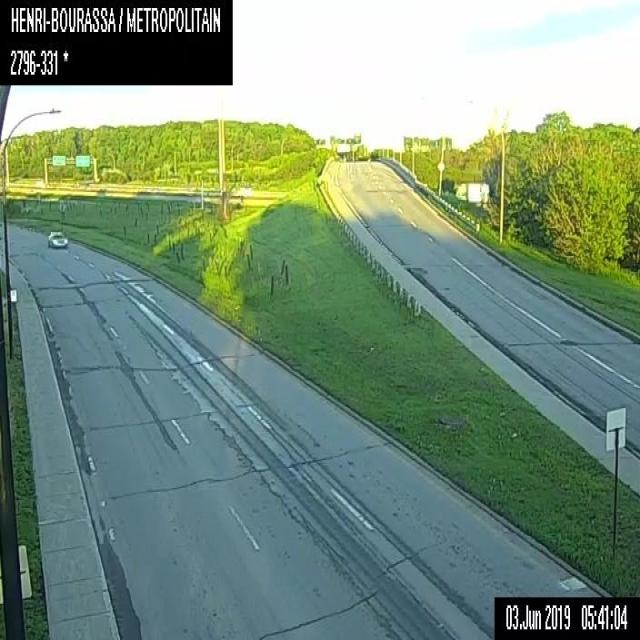vehicle: (48, 229, 68, 247)
